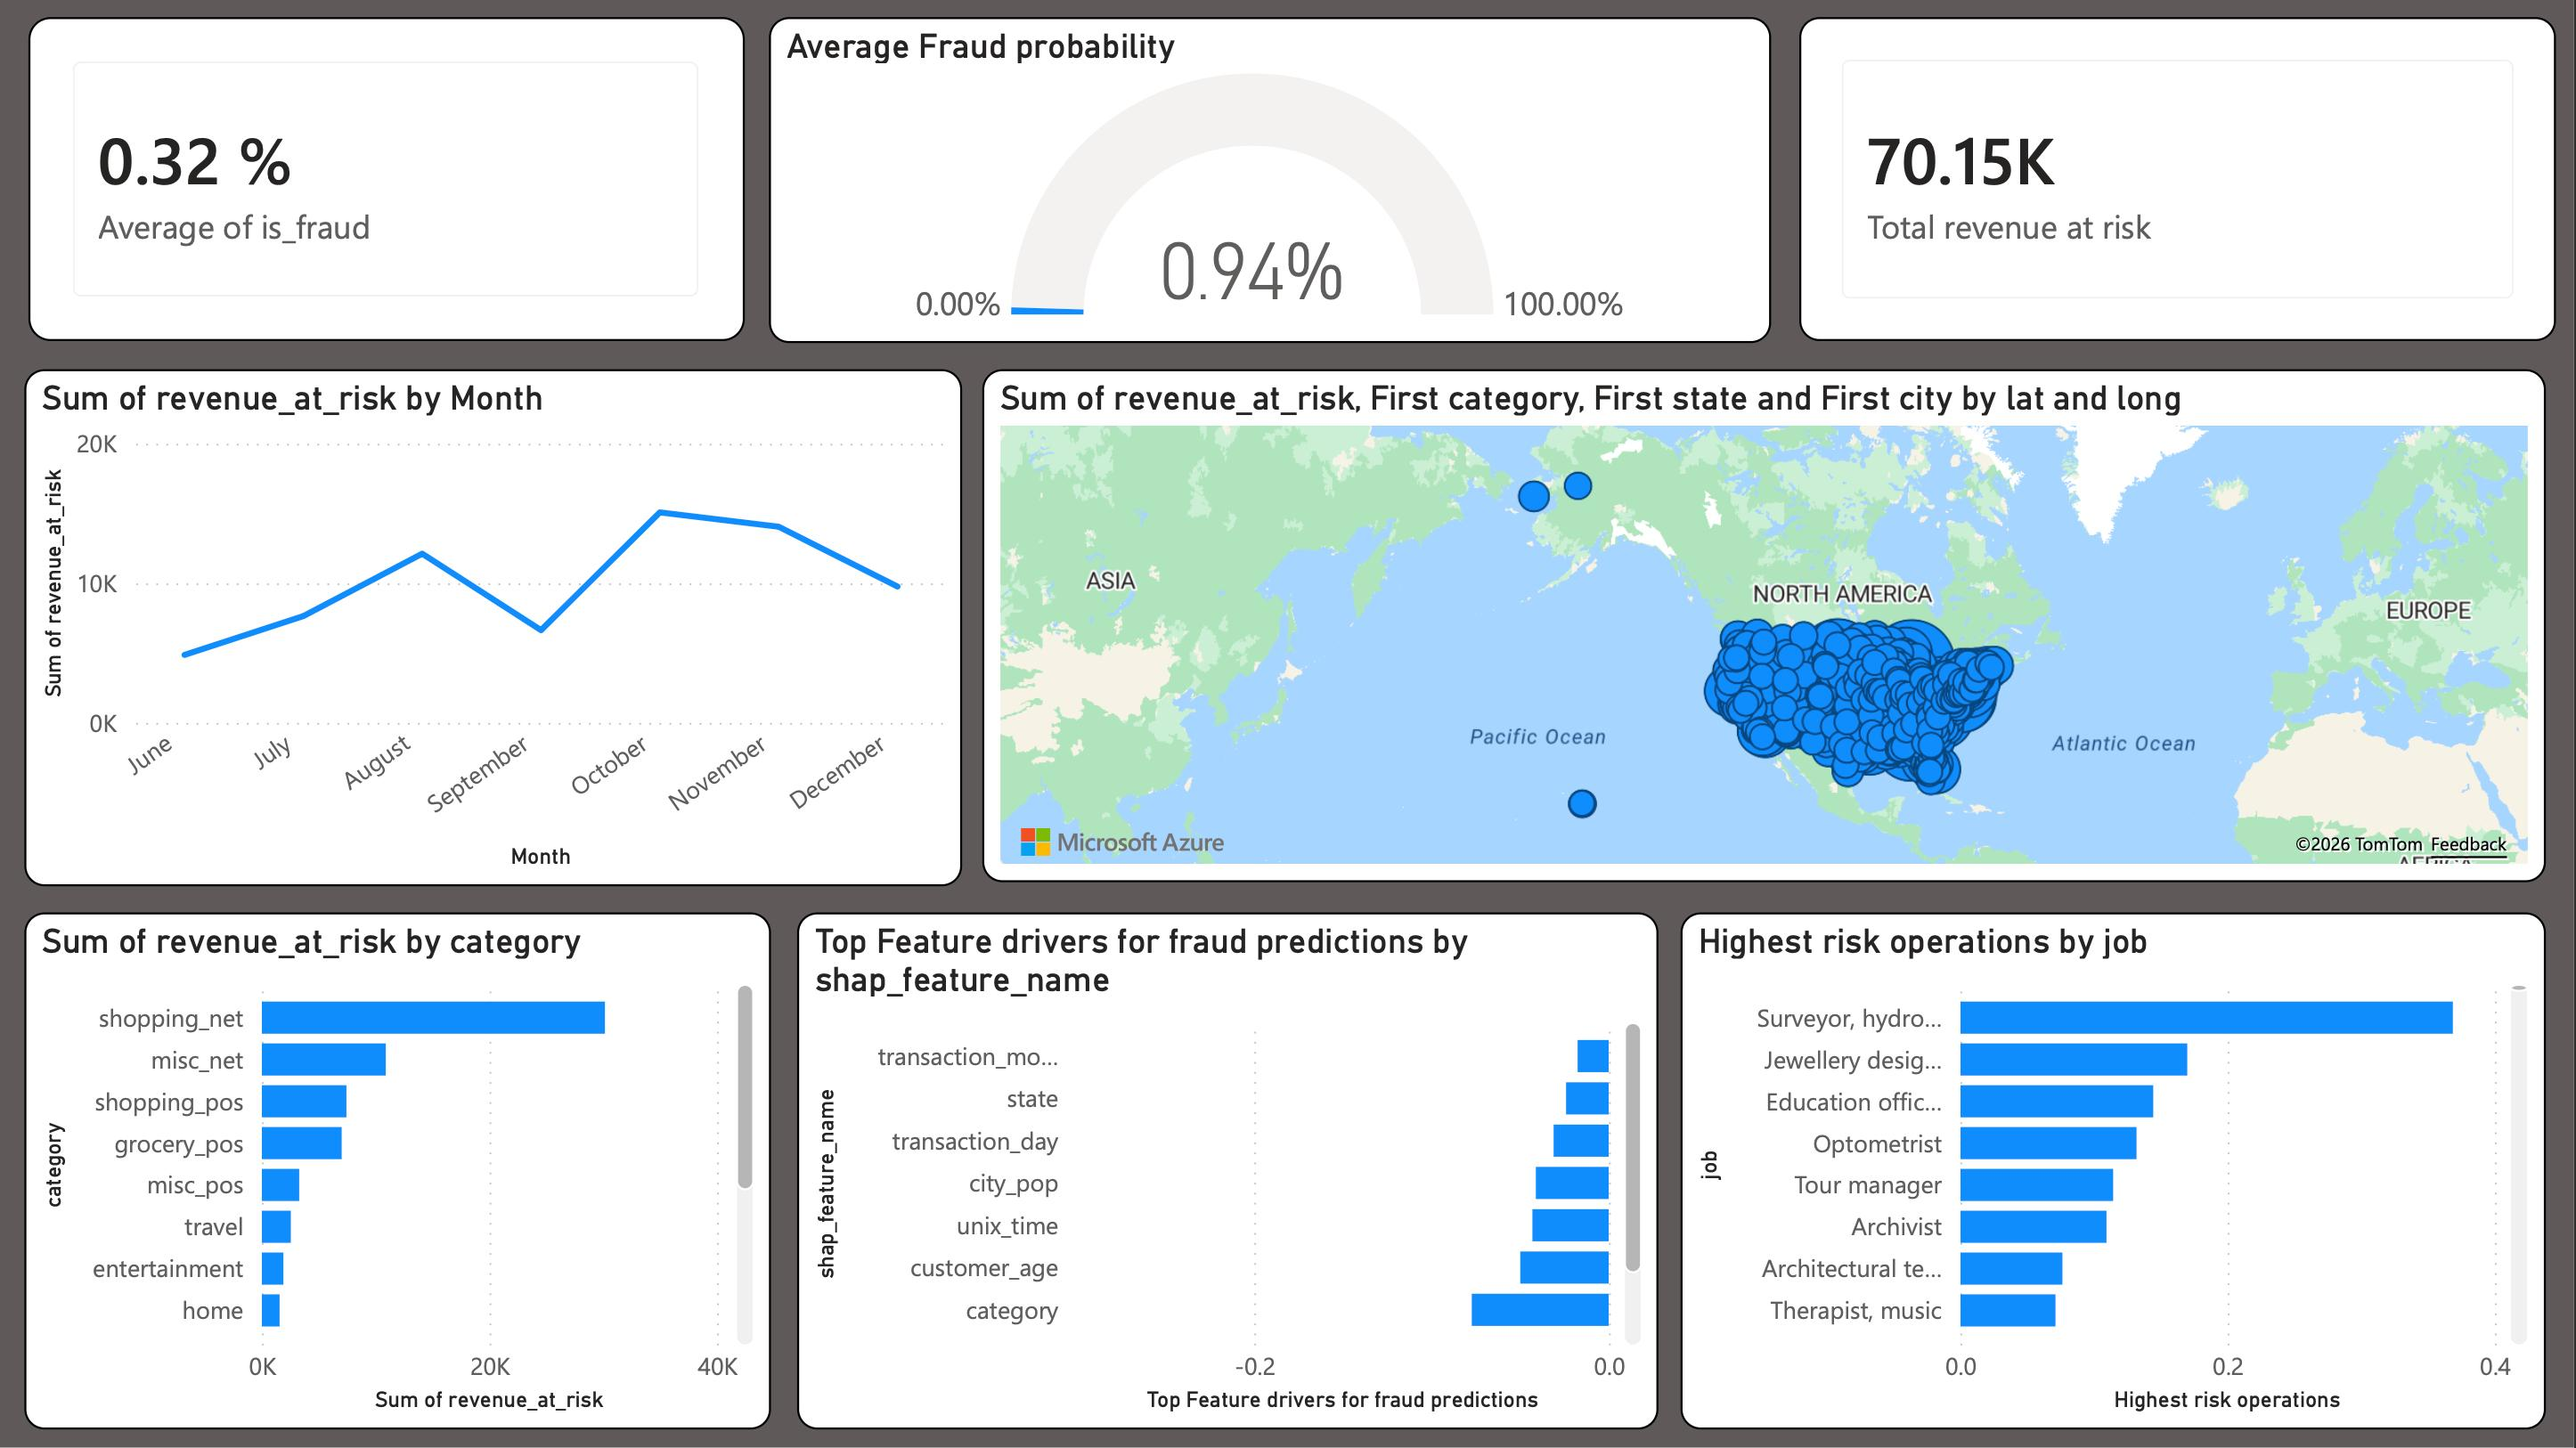

The dashboard page shown, as its layout file describes it:
{"tool":"powerbi","page":{"name":"Page 1","canvas":[1280,720],"ordinal":0},"visuals":[{"type":"azureMap","fields":{"Size":["Sum(PowerBI_Dashboard_Final.revenue_at_risk)"],"X":["PowerBI_Dashboard_Final.long"],"Y":["PowerBI_Dashboard_Final.lat"]},"box":[489.4,184.3,776.6,255.5],"z":0},{"type":"cardVisual","fields":{"Data":["Sum(PowerBI_Dashboard_Final.revenue_at_risk)"]},"box":[894.9,8.9,376.2,161.4],"z":1000},{"type":"gauge","fields":{"Y":["Avg(PowerBI_Dashboard_Final.predict_proba_fraud)"]},"box":[383.4,8.9,497.6,161.8],"z":2000},{"type":"clusteredBarChart","fields":{"Category":["PowerBI_Dashboard_Final.category"],"Y":["Sum(PowerBI_Dashboard_Final.revenue_at_risk)"]},"box":[12.7,453.8,371.2,256.8],"z":3000},{"type":"clusteredBarChart","fields":{"Category":["PowerBI_Dashboard_Final.job"],"Y":["Avg(PowerBI_Dashboard_Final.predict_proba_fraud)"]},"box":[836.4,453.8,429.6,256.8],"z":4000},{"type":"barChart","fields":{"Category":["PowerBI_Dashboard_Final.shap_feature_name"],"Y":["Avg(PowerBI_Dashboard_Final.shap_value)"]},"box":[396.6,453.8,428.4,256.8],"z":5000},{"type":"cardVisual","fields":{"Data":["Avg(PowerBI_Dashboard_Final.is_fraud)"]},"box":[15.3,8.9,355.9,161.4],"z":6000},{"type":"lineChart","fields":{"Category":["PowerBI_Dashboard_Final.trans_date_trans_time.Variation.Date Hierarchy.Month"],"Y":["Sum(PowerBI_Dashboard_Final.revenue_at_risk)"]},"box":[12.7,184.3,466.5,256.8],"z":7000}]}

Visuals, with their boxes in screenshot pixels (x1, y1, x2, y2), scaled from the page's 1280x720 canvas onto the 2576x1448 screenshot:
azureMap - Sum(PowerBI_Dashboard_Final.revenue_at_risk) x PowerBI_Dashboard_Final.long: <box>985,370,2547,884</box>
cardVisual - Sum(PowerBI_Dashboard_Final.revenue_at_risk): <box>1801,18,2558,343</box>
gauge - Avg(PowerBI_Dashboard_Final.predict_proba_fraud): <box>771,18,1773,343</box>
clusteredBarChart - PowerBI_Dashboard_Final.category x Sum(PowerBI_Dashboard_Final.revenue_at_risk): <box>26,913,772,1429</box>
clusteredBarChart - PowerBI_Dashboard_Final.job x Avg(PowerBI_Dashboard_Final.predict_proba_fraud): <box>1683,913,2547,1429</box>
barChart - PowerBI_Dashboard_Final.shap_feature_name x Avg(PowerBI_Dashboard_Final.shap_value): <box>798,913,1660,1429</box>
cardVisual - Avg(PowerBI_Dashboard_Final.is_fraud): <box>31,18,747,343</box>
lineChart - PowerBI_Dashboard_Final.trans_date_trans_time.Variation.Date Hierarchy.Month x Sum(PowerBI_Dashboard_Final.revenue_at_risk): <box>26,370,965,887</box>
